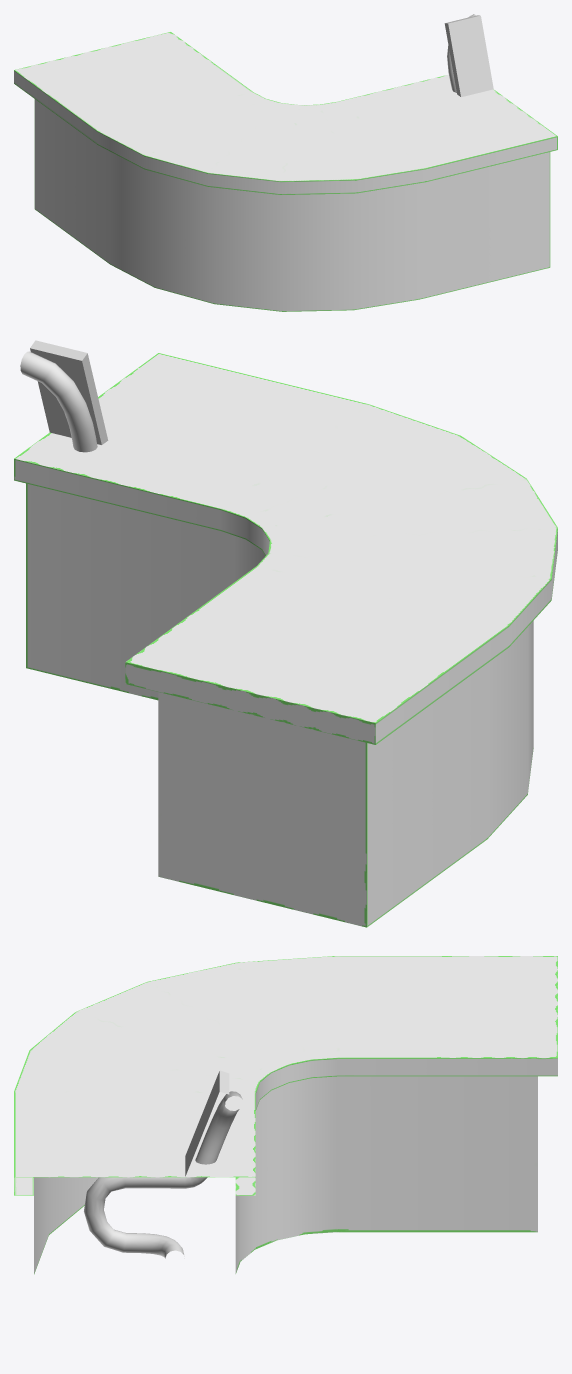
Rendered from counter.gltf.
The picture shows the model from 3 angles, top to bottom: view 1: azimuth 30°, elevation 25°; view 2: azimuth 150°, elevation 25°; view 3: azimuth 270°, elevation 25°; orthographic projection. The views are drawn at different scales.
Visible parts, largest first — view 1: counter, Cube.001; view 2: counter, Cube.001, BezierCurve; view 3: counter, BezierCurve, Cube.001.
Boxes of the visible parts, x1,y1,x2,y2 form: counter: [14, 32, 557, 311]; Cube.001: [444, 15, 493, 97]; counter: [14, 353, 557, 927]; Cube.001: [30, 340, 108, 444]; BezierCurve: [20, 351, 97, 452]; counter: [14, 956, 557, 1274]; BezierCurve: [84, 1091, 242, 1258]; Cube.001: [185, 1070, 229, 1176].
Size of the model in its own units: 5.2 by 2.94 by 5.4.
1 material, 1 textured.
